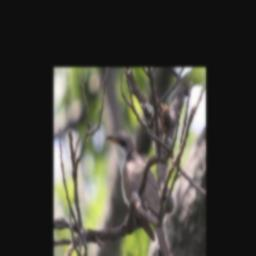Cuckoo: (105, 126, 172, 256)
